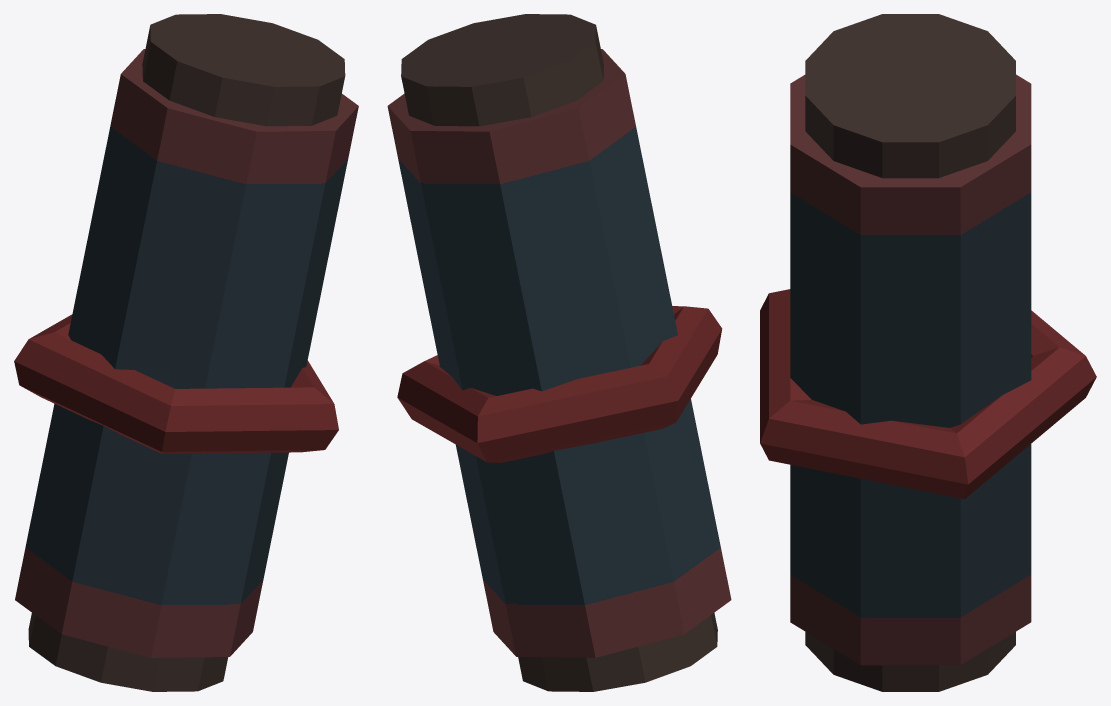
Rendered from Scroll Collectible.fbx.
The picture shows the model from 3 angles, left to right: view 1: azimuth 30°, elevation 25°; view 2: azimuth 150°, elevation 25°; view 3: azimuth 270°, elevation 25°; orthographic projection. The views are drawn at different scales.
Visible parts, largest first — view 1: Scroll Base, Rope, Scroll Cap 2, Scroll Cap 1; view 2: Scroll Base, Rope, Scroll Cap 2, Scroll Cap 1; view 3: Scroll Base, Scroll Cap 2, Rope, Scroll Cap 1.
Boxes of the visible parts, left/top/right/bottom form: Scroll Base: left=15, top=49, right=358, bottom=657; Rope: left=14, top=314, right=338, bottom=453; Scroll Cap 2: left=142, top=14, right=345, bottom=126; Scroll Cap 1: left=28, top=613, right=228, bottom=691; Scroll Base: left=387, top=49, right=731, bottom=657; Rope: left=397, top=306, right=722, bottom=462; Scroll Cap 2: left=401, top=14, right=603, bottom=126; Scroll Cap 1: left=518, top=613, right=717, bottom=691; Scroll Base: left=790, top=74, right=1031, bottom=665; Scroll Cap 2: left=805, top=14, right=1015, bottom=178; Rope: left=760, top=289, right=1096, bottom=499; Scroll Cap 1: left=805, top=632, right=1015, bottom=691.
Bounding box in the file's own units: 37.93 × 74.91 × 34.94.
1 material, 1 textured.
